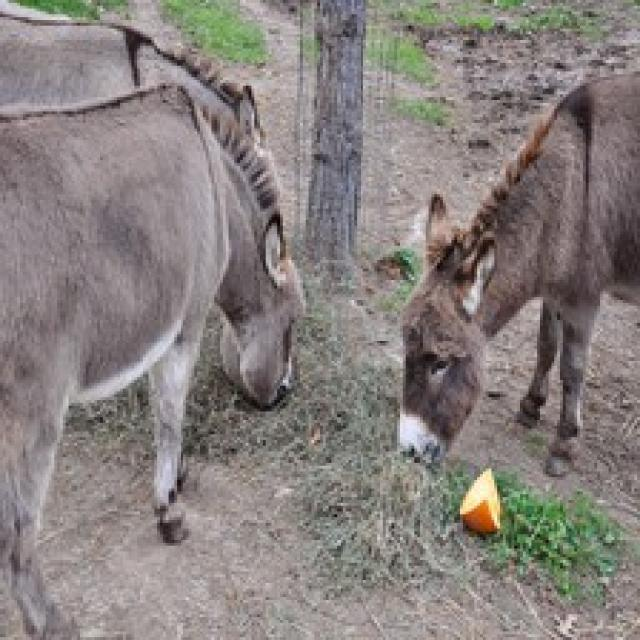Donkey: (6, 83, 300, 618), (394, 63, 637, 486), (4, 3, 264, 236)
